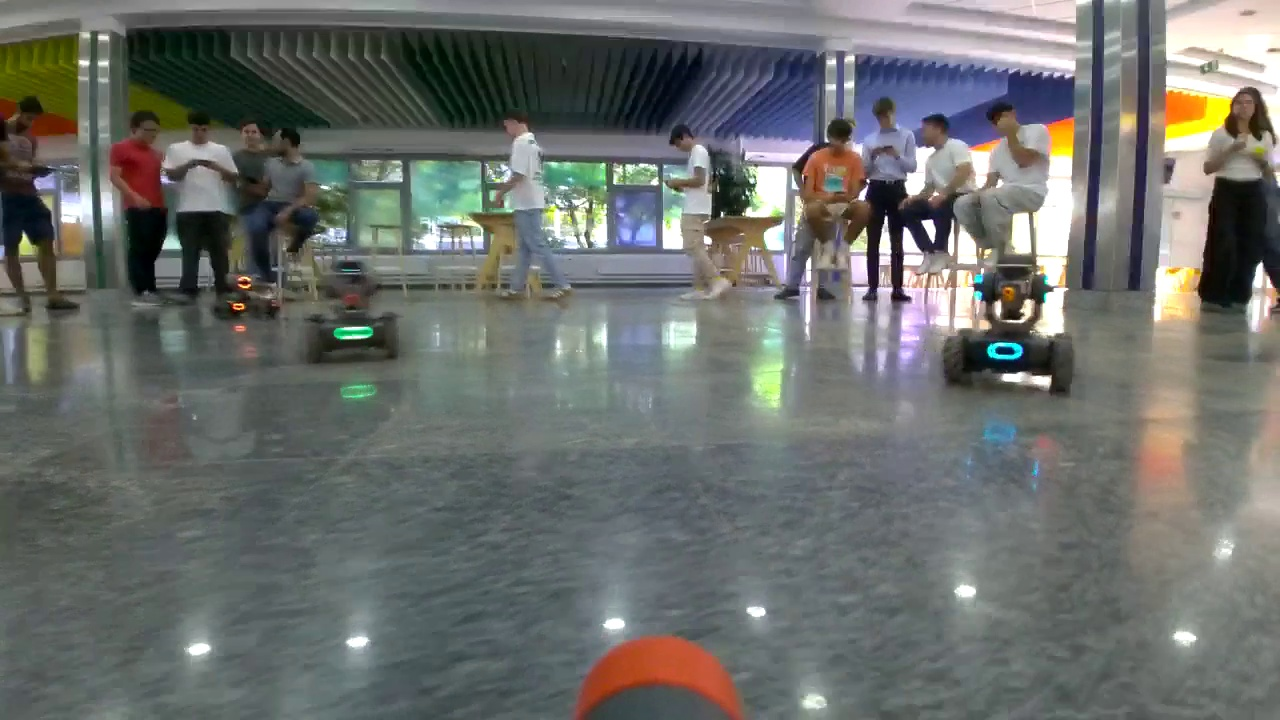robot: (944, 251, 1074, 397), (302, 258, 402, 359), (216, 269, 280, 324)
